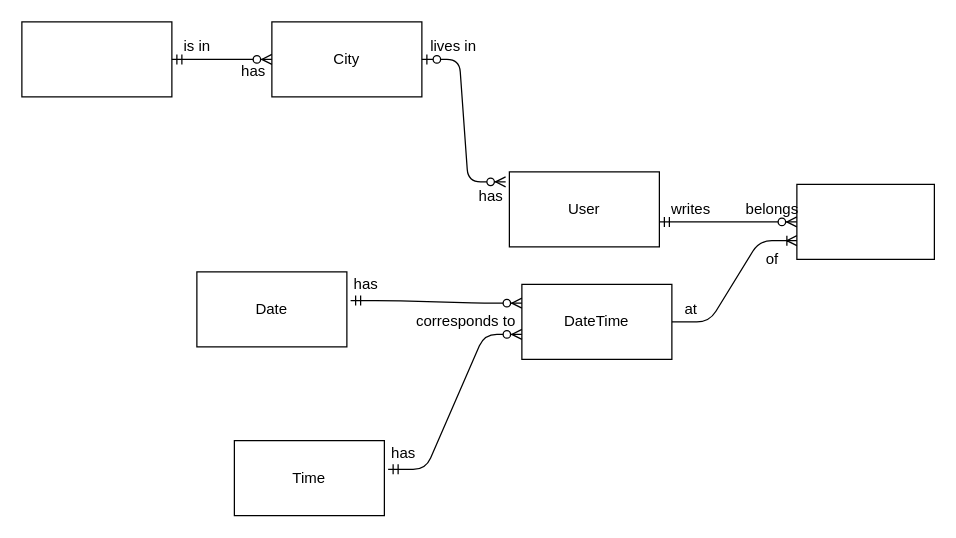
This 956x538 diagram has some shape labels left out. The shapes that lost their labels are listed below. From the top down, each one's centre as x and y in pixels, then its label:
At [96,59]: "State".
At [865,221]: "Text".
